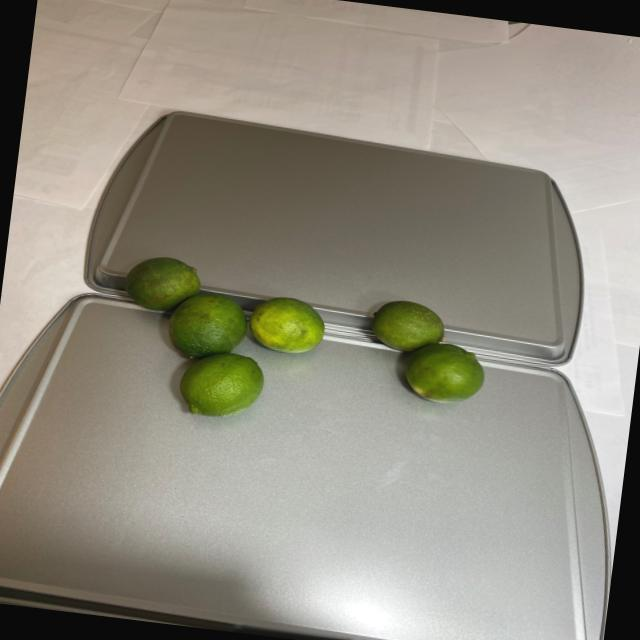lemon: (103, 251, 335, 434), (347, 291, 502, 418)
